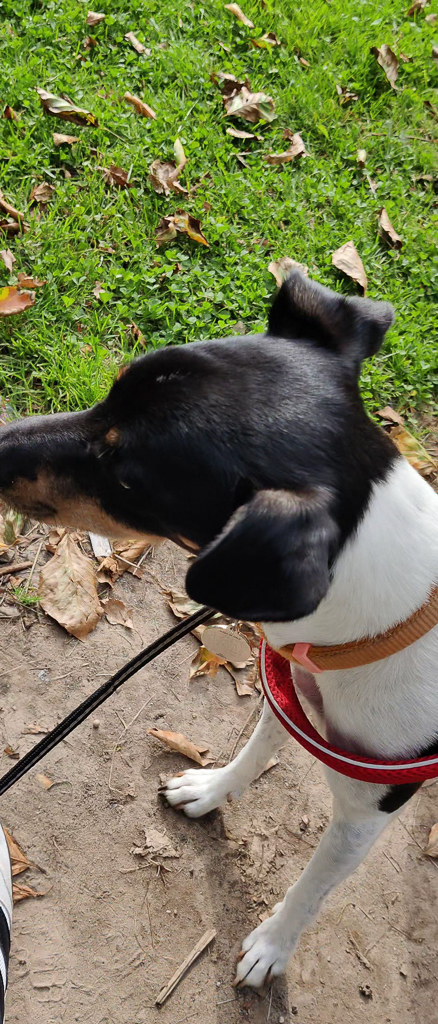Dog: (0, 256, 438, 1024)
Humanoid: (0, 805, 26, 1024)
